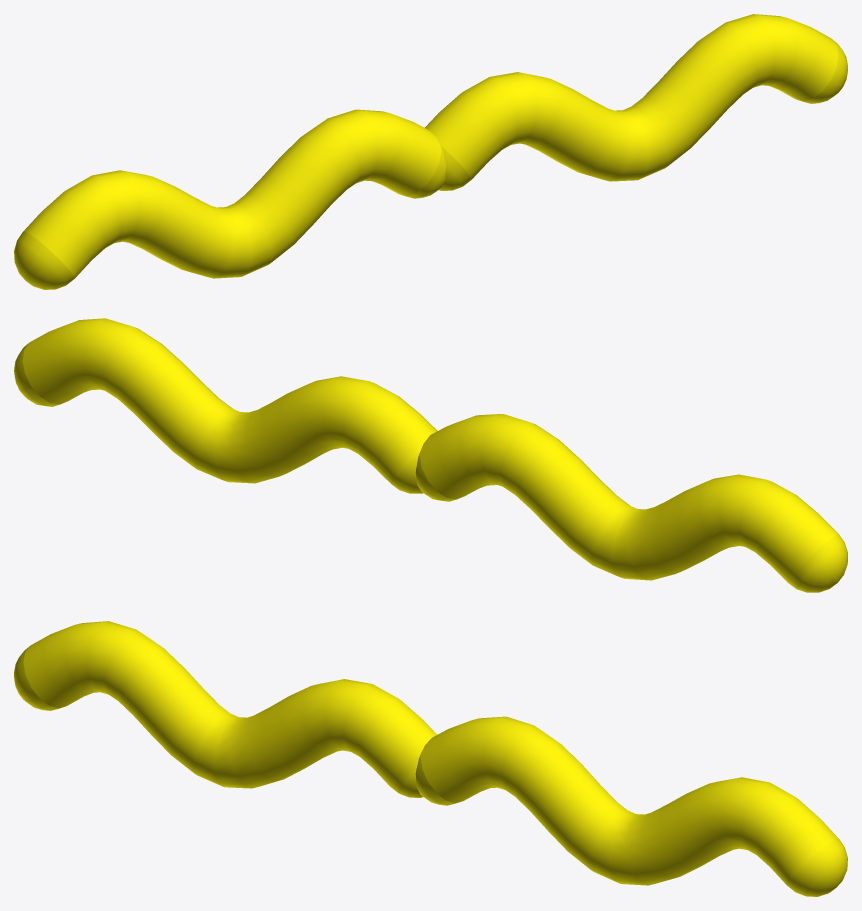
File: Hands2.glb
The picture shows the model from 3 angles, top to bottom: view 1: azimuth 30°, elevation 25°; view 2: azimuth 150°, elevation 25°; view 3: azimuth 330°, elevation 25°; orthographic projection.
Parts seen in each view (by area): view 1: Hands2; view 2: Hands2; view 3: Hands2.
Boxes of the visible parts, x1,y1,x2,y2 form: Hands2: (14, 14, 847, 289); Hands2: (14, 318, 847, 592); Hands2: (14, 621, 847, 896).
Size of the model in its own units: 539 by 80.63 by 41.91.
